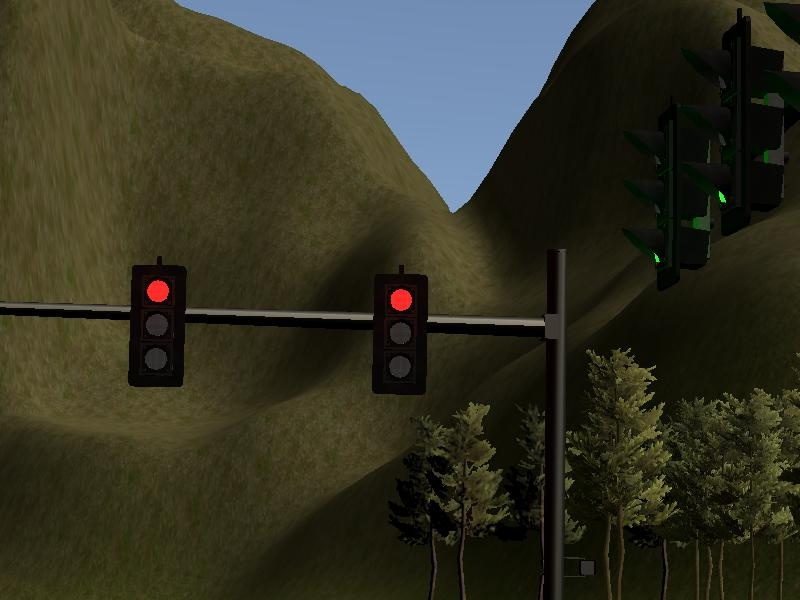RED: (371, 275, 426, 395), (129, 266, 181, 385)
